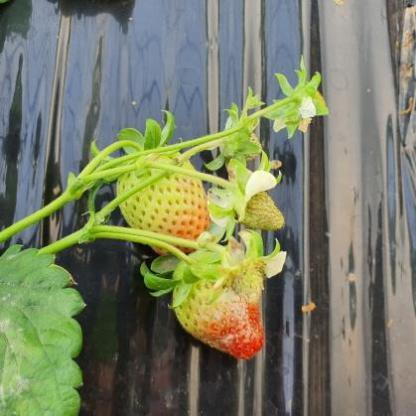Strawberry_Powdery_Mildew_Fruit: (197, 296, 267, 361)
